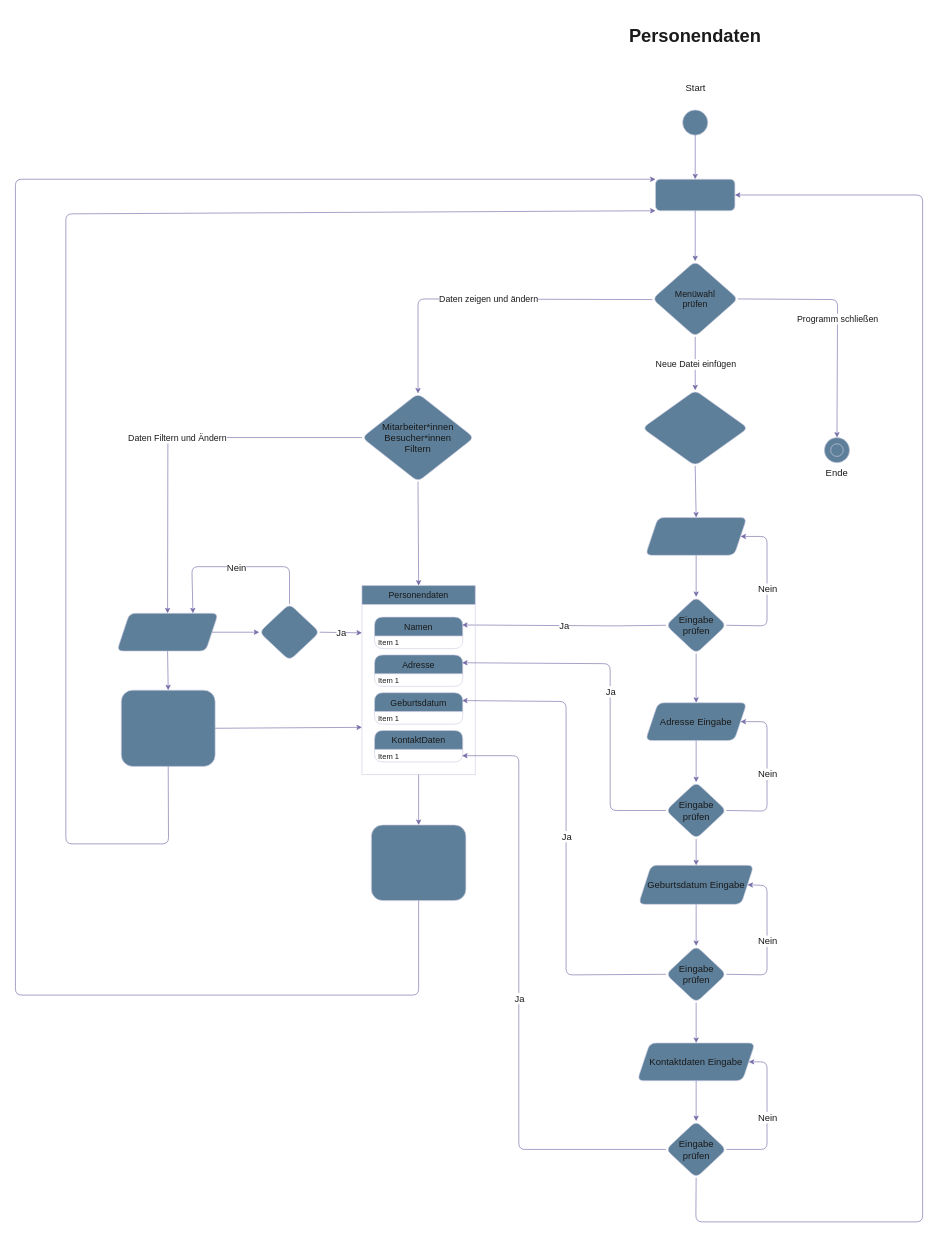
This 939x1238 diagram has some shape labels left out. The shapes that lost their labels are listed below. From the top down, each one's box as (x1, y1, x2, y2) in pixels, then its label:
(655, 179, 735, 211): Menüliste
(642, 390, 748, 466): Mitarbeiter*innen Besucher*innen
(645, 517, 747, 555): Namen Eingabe
(116, 613, 218, 651): Filter Eingabe
(259, 603, 320, 661): Filter prüfen
(121, 690, 215, 766): Personendaten Ändern
(371, 824, 466, 901): Personendaten zeigen
